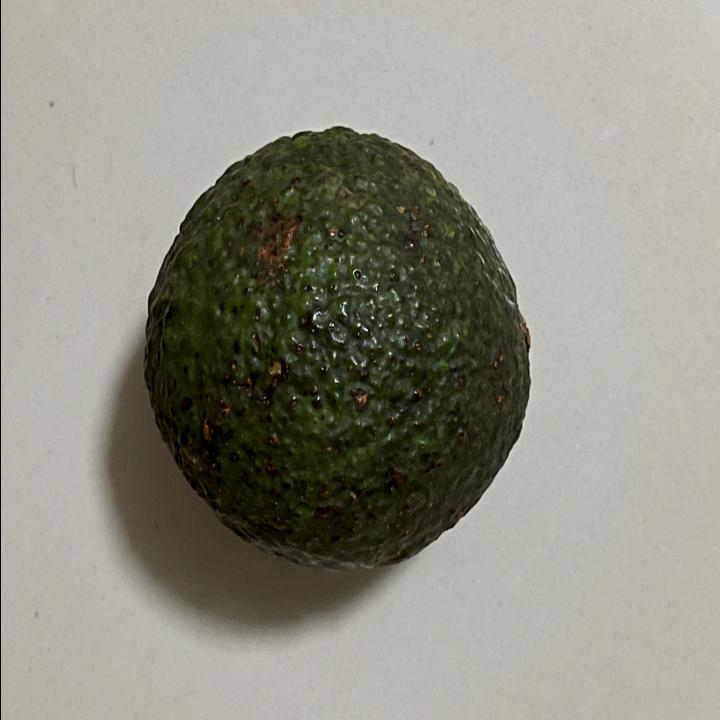Level1: (124, 110, 550, 586)
